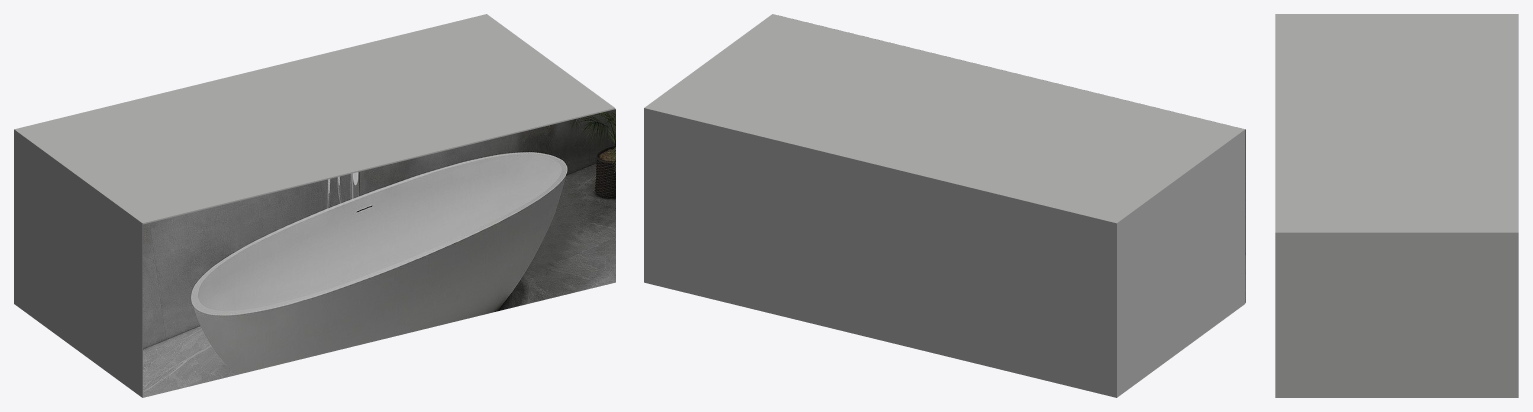
Rendered from mocan-48.glb.
3 views of the same model, side by side, from view 1: azimuth 30°, elevation 25°; view 2: azimuth 150°, elevation 25°; view 3: azimuth 270°, elevation 25° (orthographic). The views are drawn at different scales.
Parts seen in each view (by area): view 1: furniture; view 2: furniture; view 3: furniture.
Part boxes in pixels (bbox=[...]): furniture: bbox=[14, 14, 615, 397]; furniture: bbox=[644, 14, 1245, 397]; furniture: bbox=[1275, 14, 1518, 397].
Size of the model in its own units: 1.7 by 0.6 by 0.804.
2 materials, 1 textured.
